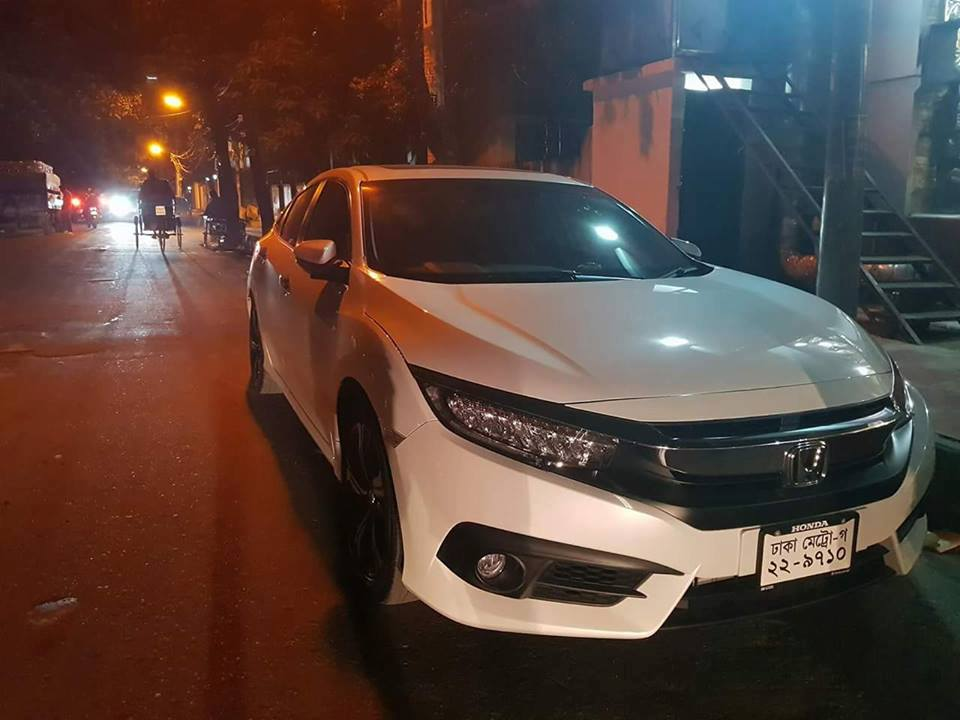registration_plate: (760, 517, 856, 587)
